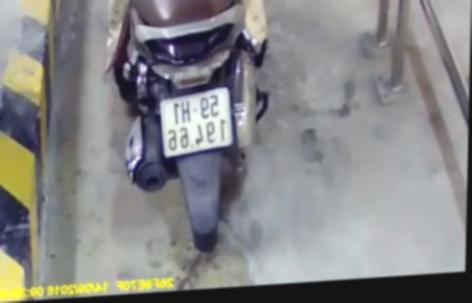License_Plate: (152, 78, 246, 163)
